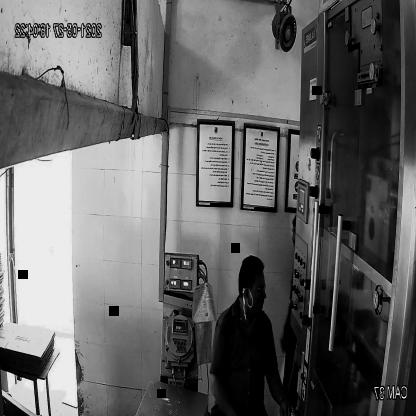goggles: (246, 276, 269, 298)
